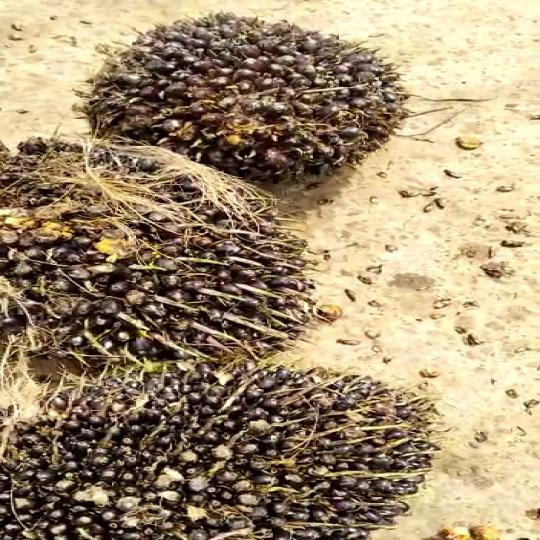mentah: (0, 134, 327, 382), (0, 361, 442, 540), (82, 9, 411, 195)
